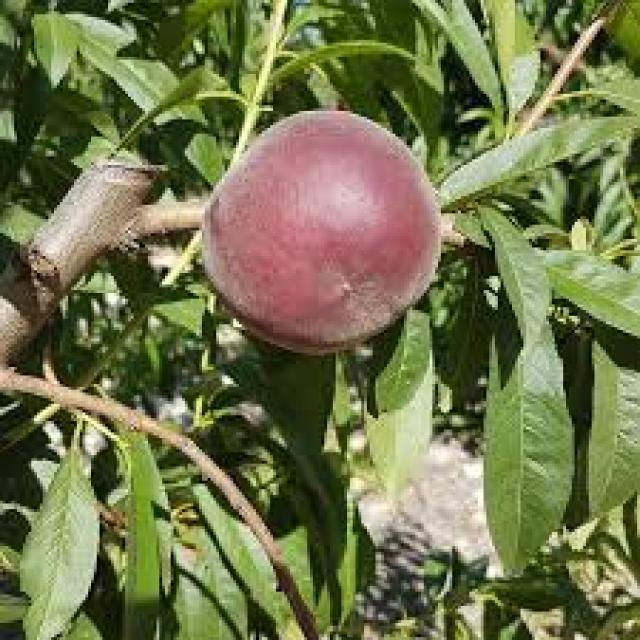organic waste: (199, 105, 441, 356)
